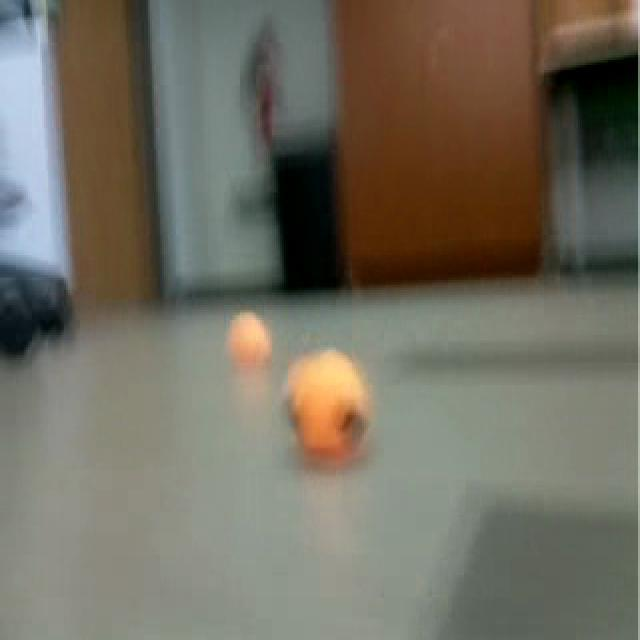oball: (286, 348, 364, 464), (224, 310, 272, 370)
